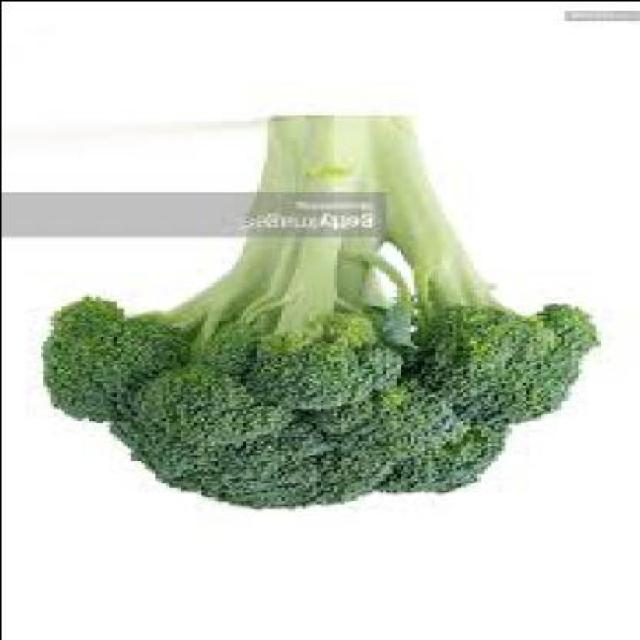BIODEGRADABLE: (42, 114, 606, 512)
